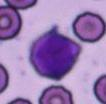L: (29, 31, 81, 80)
